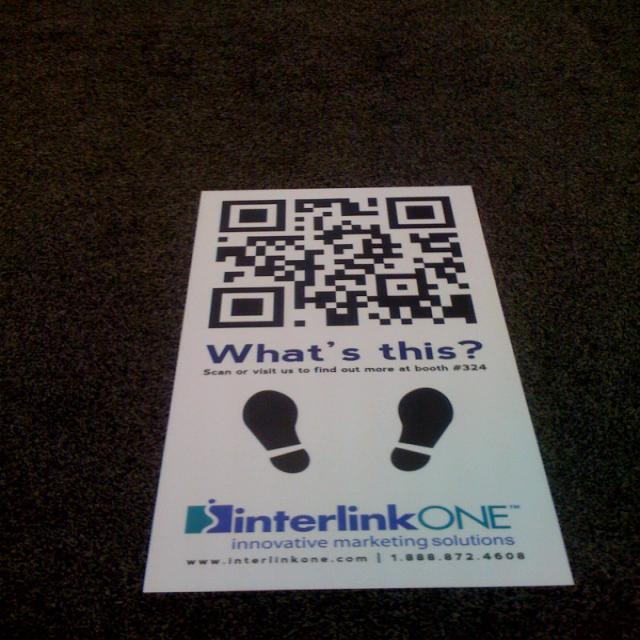qrcode: (210, 198, 478, 328)
